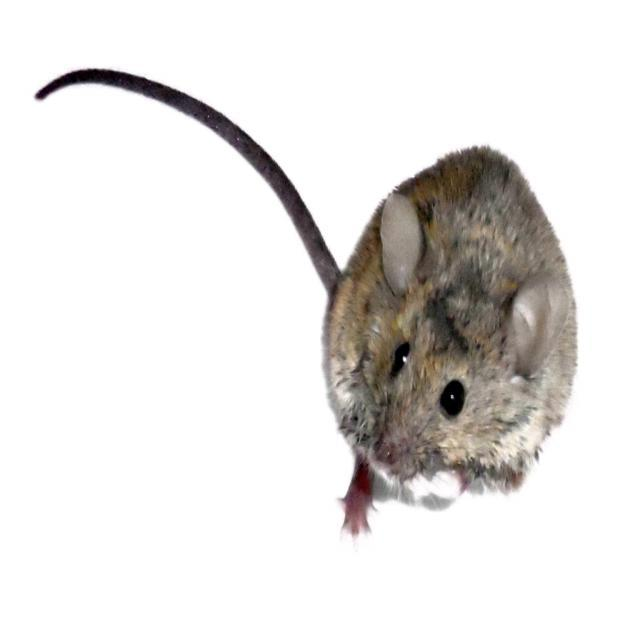rat: (32, 67, 578, 544)
